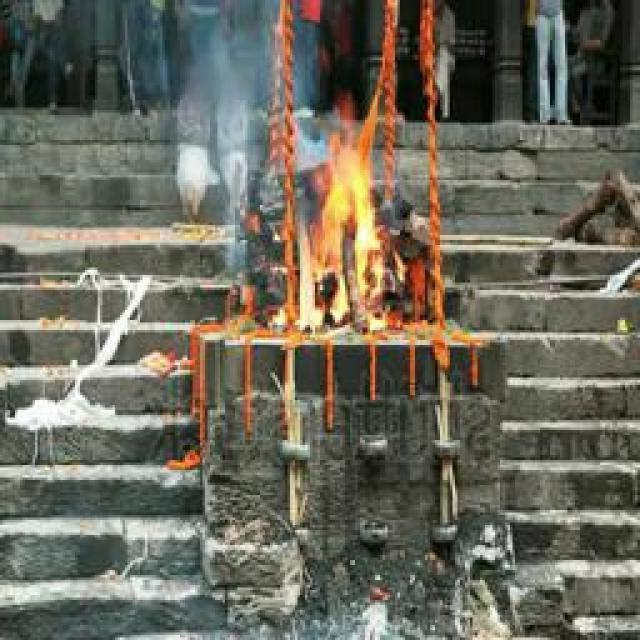Fire: (293, 123, 384, 335)
